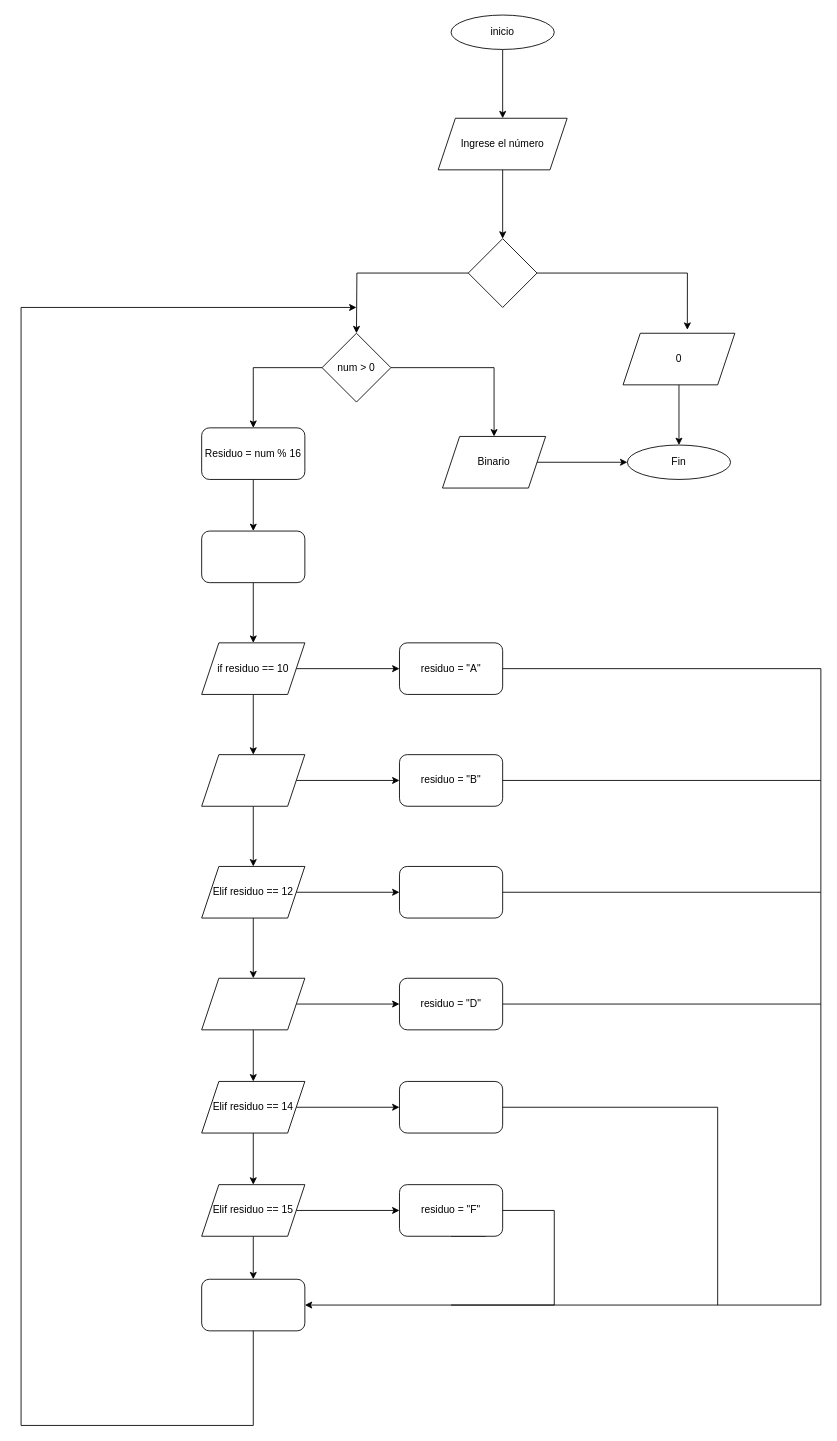
Some shapes in this 837 by 1441 pixel diagram are drawn without their labels. The box of each missing label's shape, as (x1, y1, x2, y2) in pixels:
binario = str(residuo) + binario: (201, 1278, 305, 1331)
Elif residuo == 11: (201, 754, 305, 806)
Elif residuo == 13: (201, 977, 305, 1030)
if num == 0: (467, 238, 537, 307)
num = num // 16: (201, 530, 305, 583)
residuo = "C": (399, 866, 503, 918)
residuo = "E": (399, 1081, 503, 1133)
